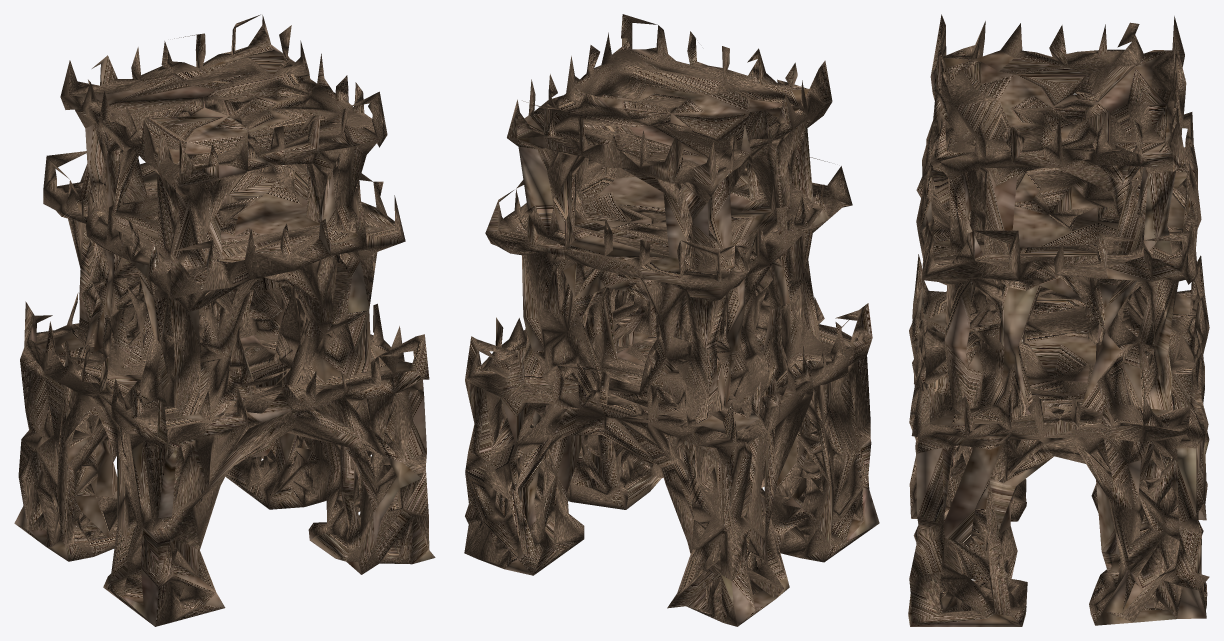
File: bone-spire-lod1.glb
3 renders of one model, left to right at view 1: azimuth 30°, elevation 25°; view 2: azimuth 150°, elevation 25°; view 3: azimuth 270°, elevation 25°, orthographic. The views are drawn at different scales.
Parts seen in each view (by area): view 1: Mesh_0.001; view 2: Mesh_0.001; view 3: Mesh_0.001.
Part boxes in pixels (x1,y1,x2,y2): Mesh_0.001: (14,14,435,626); Mesh_0.001: (464,14,879,626); Mesh_0.001: (908,14,1209,626).
Bounding box in the file's own units: 251363 × 391200 × 218100.
Materials: 1 (1 with a texture image).
